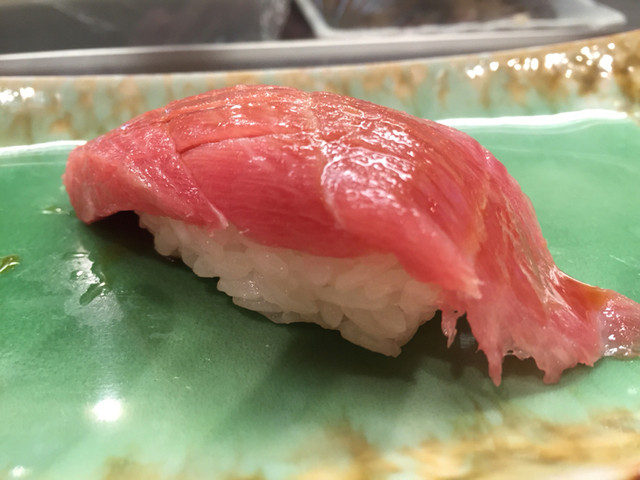medium_fatty_tuna: (65, 87, 640, 388)
